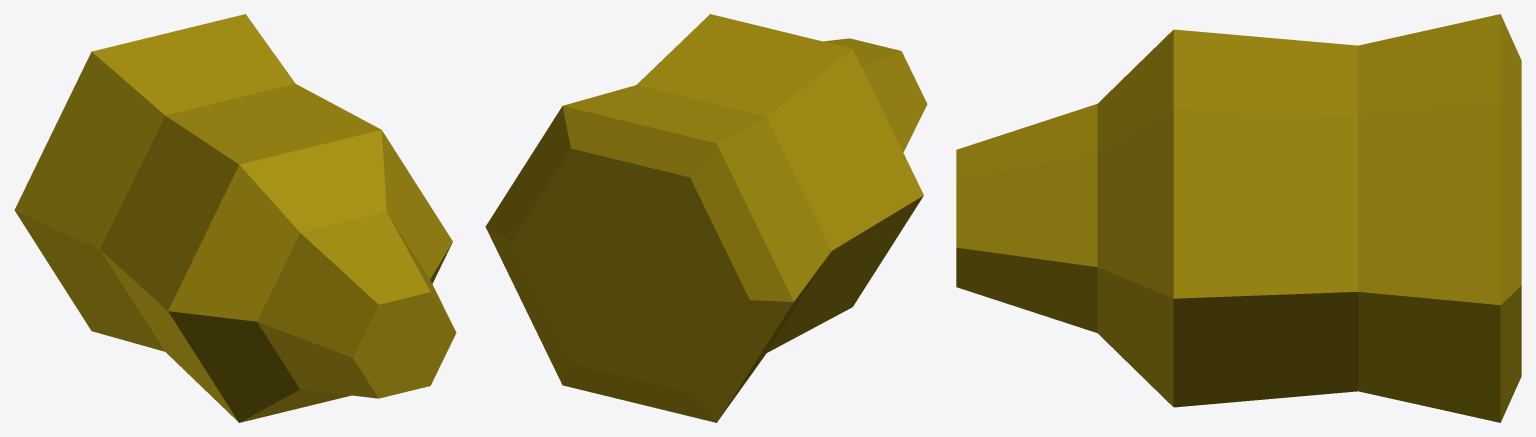
The model's file is LemonBottle.obj.
The picture shows the model from 3 angles, left to right: view 1: azimuth 30°, elevation 25°; view 2: azimuth 150°, elevation 25°; view 3: azimuth 270°, elevation 25°; orthographic projection. The views are drawn at different scales.
Visible parts, largest first — view 1: sodaBottle.005; view 2: sodaBottle.005; view 3: sodaBottle.005.
Boxes of the visible parts, x1,y1,x2,y2 form: sodaBottle.005: (14, 14, 456, 422); sodaBottle.005: (485, 14, 927, 422); sodaBottle.005: (956, 14, 1521, 422).
Bounding box in the file's own units: 0.0902 × 0.0782 × 0.1242.
